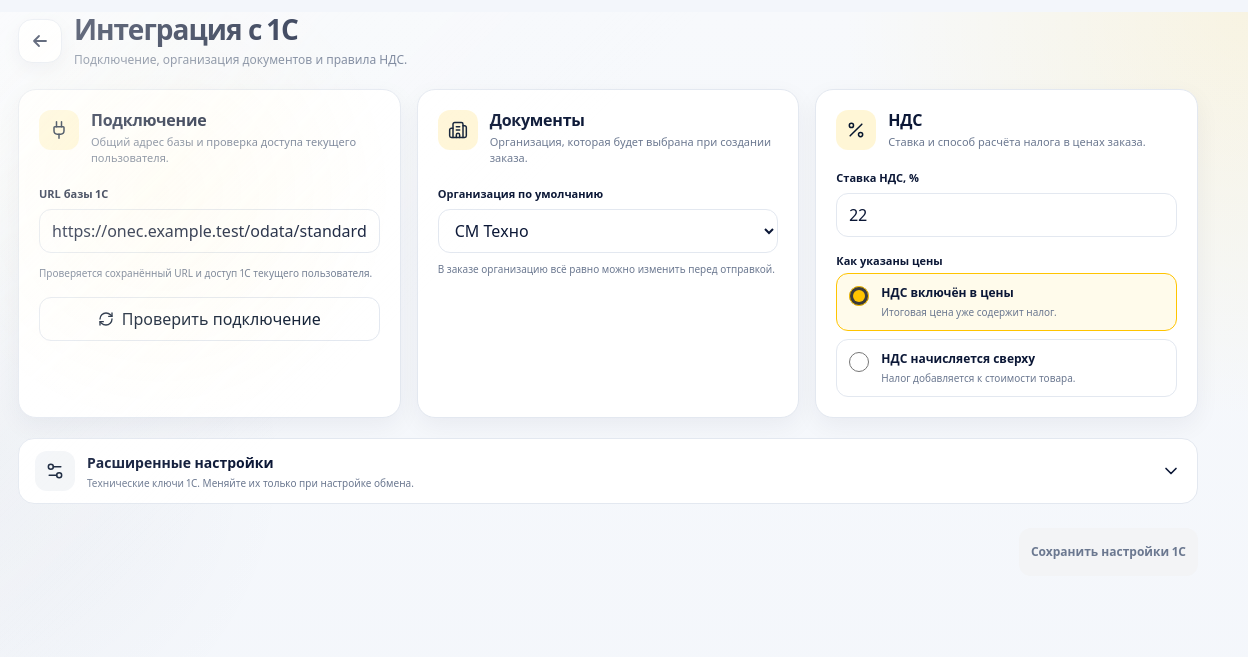
Test: OneCSettings › tests the connection without saving or clearing edited values
Replace the text in the field labelled "URL базы 1С" with "https://changed.example.test/odata". click: (209, 230)
box: [39, 208, 380, 252]
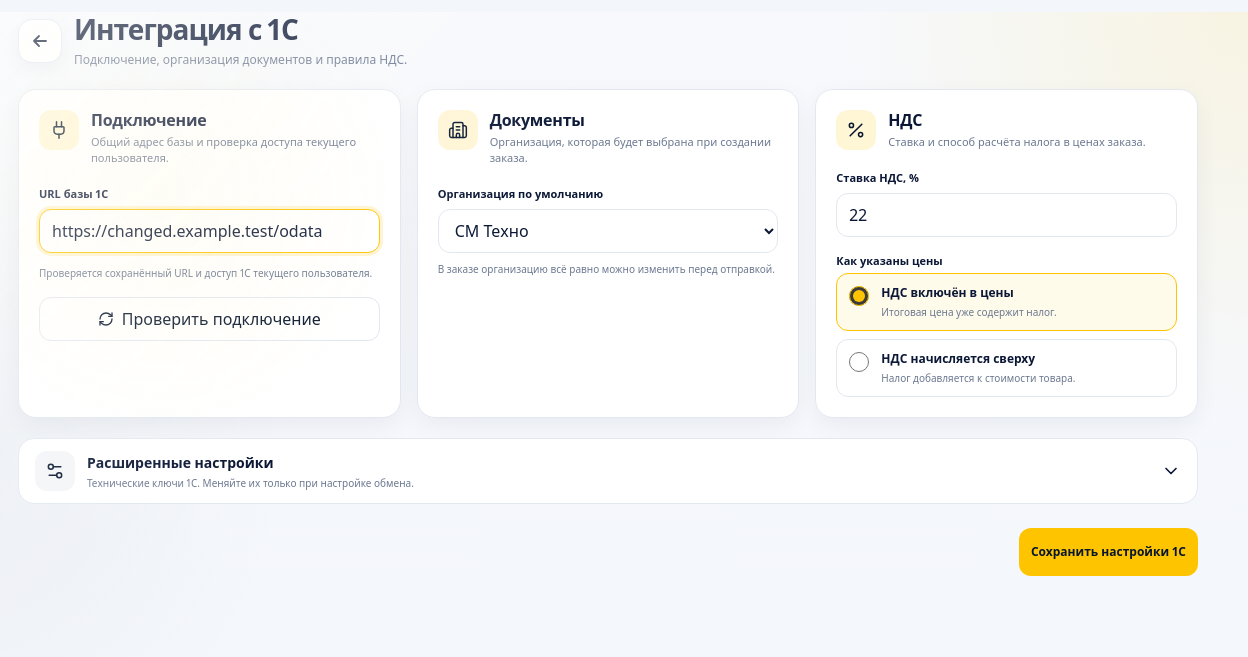
Click the button "Проверить подключение". click: (209, 318)
box: [39, 296, 380, 340]
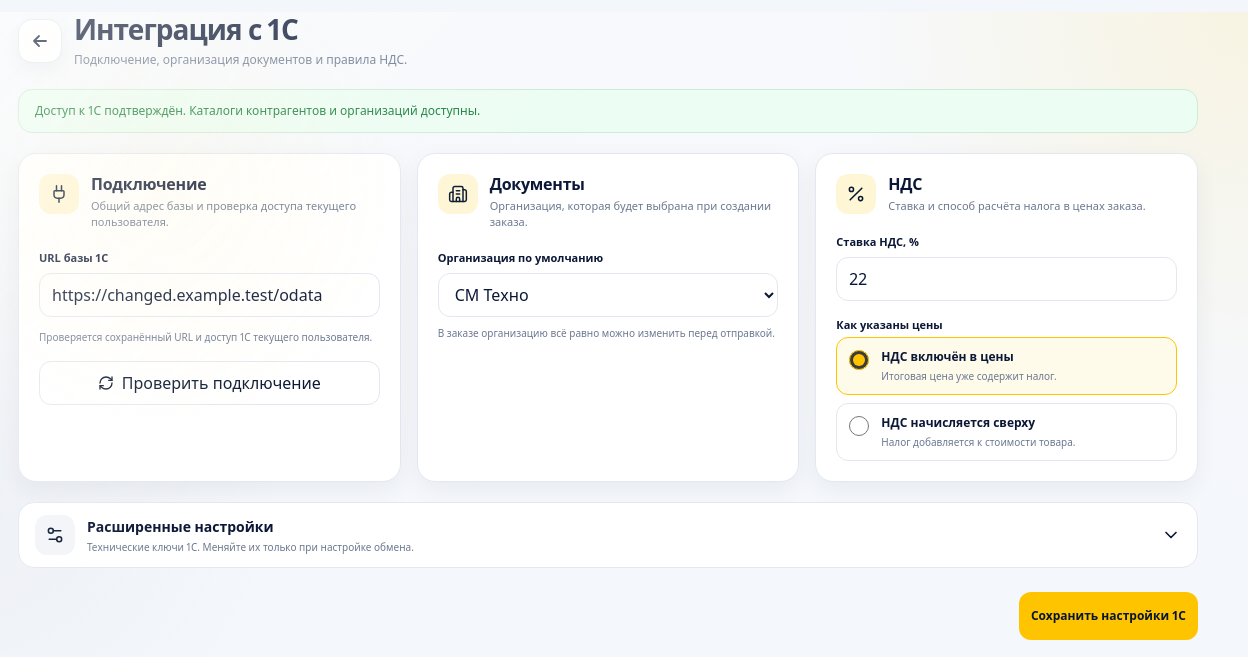
Expected: the message shows "Доступ к 1С подтверждён", [35, 102, 480, 119]
